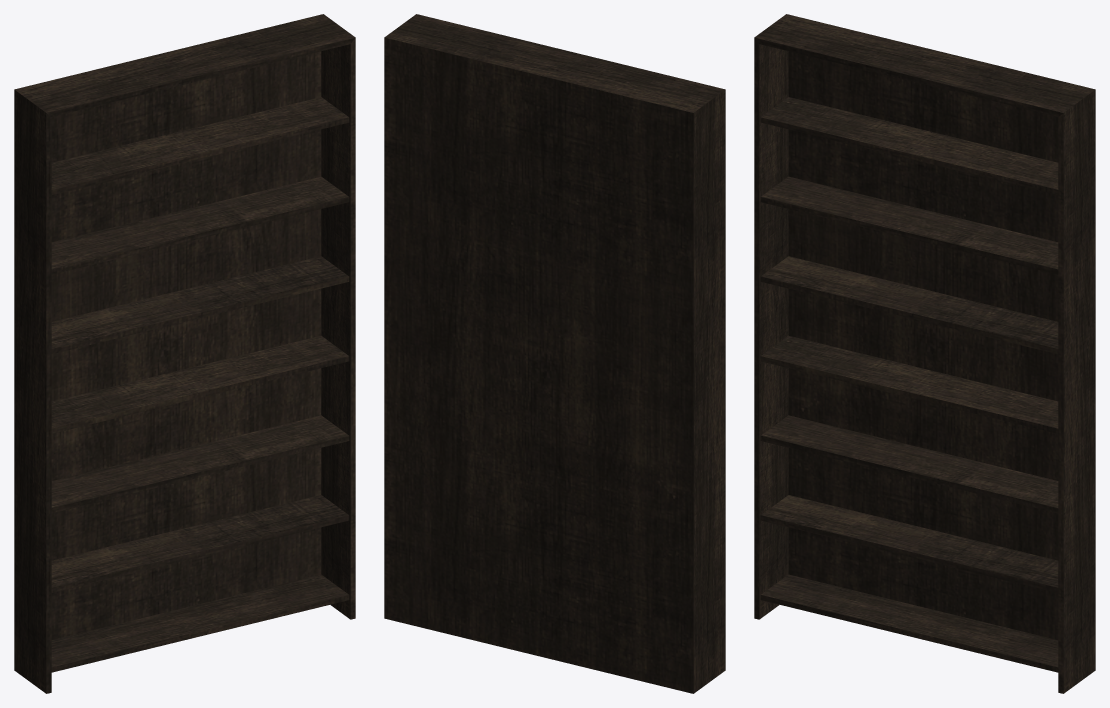
File: shelf_mp_4_2.dae
3 renders of one model, left to right at view 1: azimuth 30°, elevation 25°; view 2: azimuth 150°, elevation 25°; view 3: azimuth 330°, elevation 25°, orthographic.
Visible parts, largest first — view 1: shelf_mp_4_2; view 2: shelf_mp_4_2; view 3: shelf_mp_4_2.
Boxes of the visible parts, x1,y1,x2,y2 form: shelf_mp_4_2: [14, 14, 355, 693]; shelf_mp_4_2: [384, 14, 725, 693]; shelf_mp_4_2: [754, 14, 1095, 693].
Bounding box in the file's own units: 1.22 × 0.22 × 2.19.
Materials: 1 (1 with a texture image).
